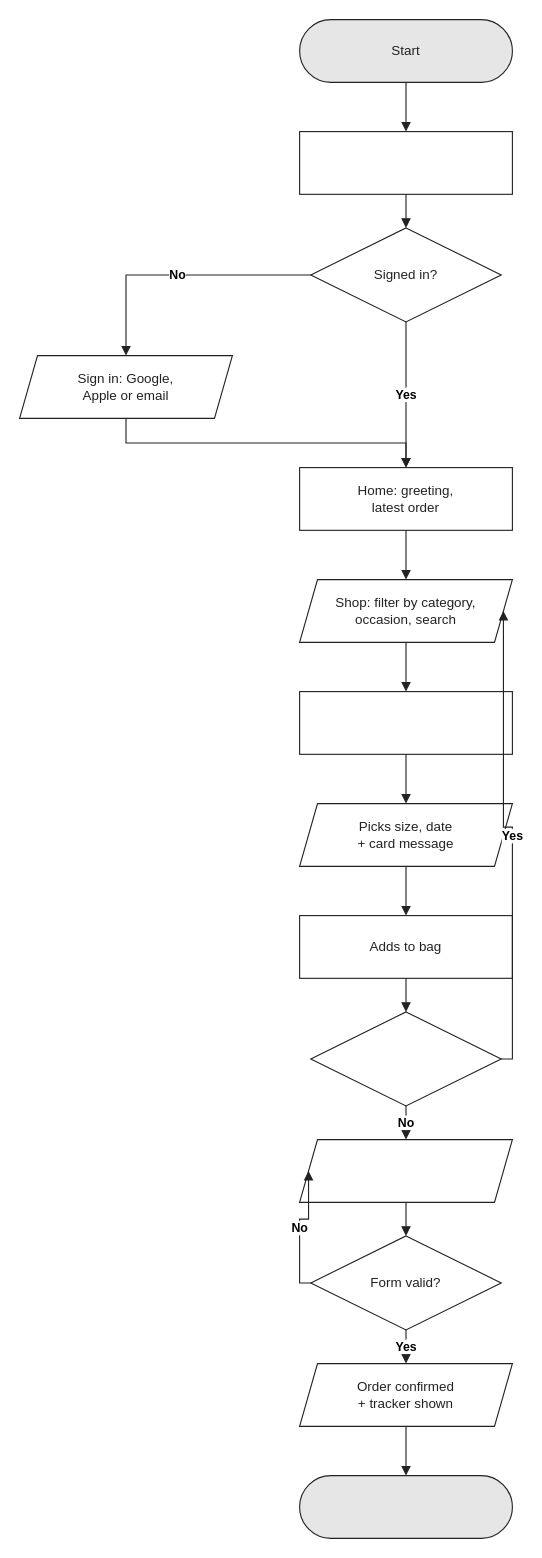
The diagram is 542 pixels wide and 1558 high, and some of its shapes have lost their labels. Here are the shapes that lost their labels. From the top down, the centre of each, then its label:
the point at 405,162: Landing page
the point at 405,722: Product page
the point at 405,1058: Keep shopping?
the point at 405,1170: Checkout: delivery, details, payment
the point at 405,1506: End
